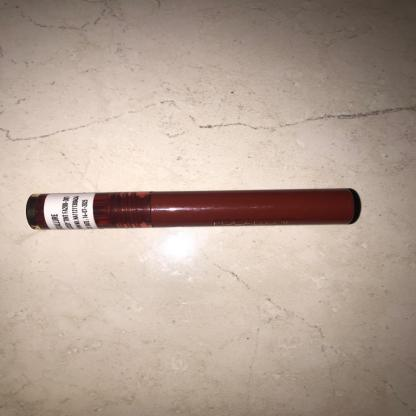lipstick: (0, 153, 404, 243)
